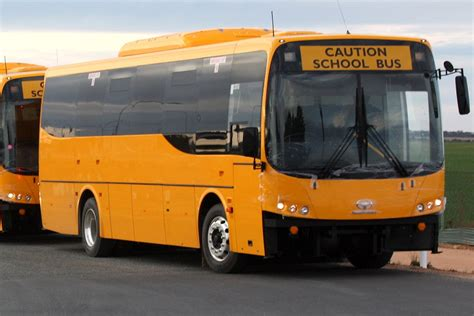bus: (41, 34, 444, 265), (1, 61, 41, 239)
